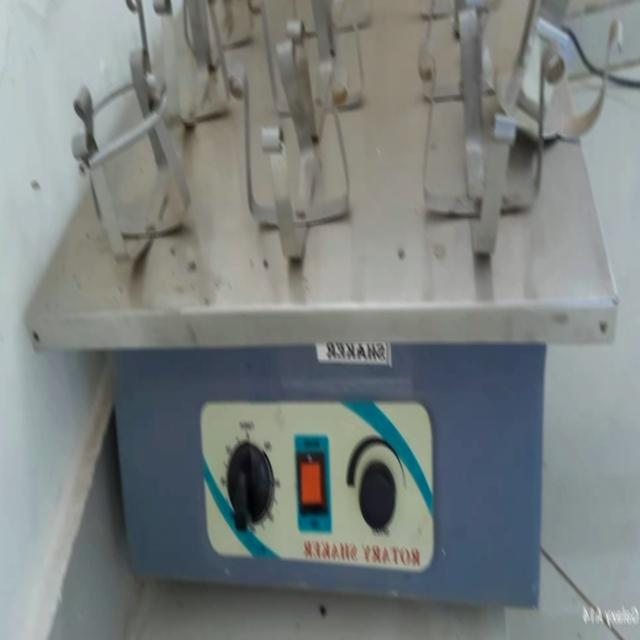Rotary Shaker: (21, 2, 621, 620)
